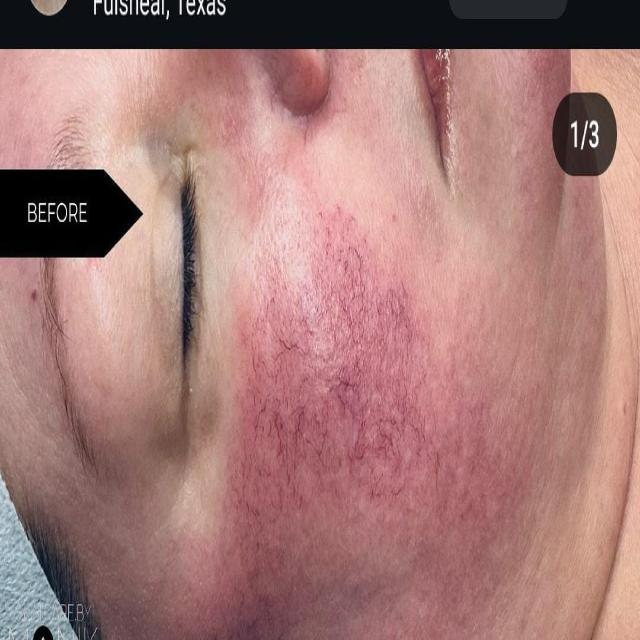Rosacea: (245, 265, 424, 555)
